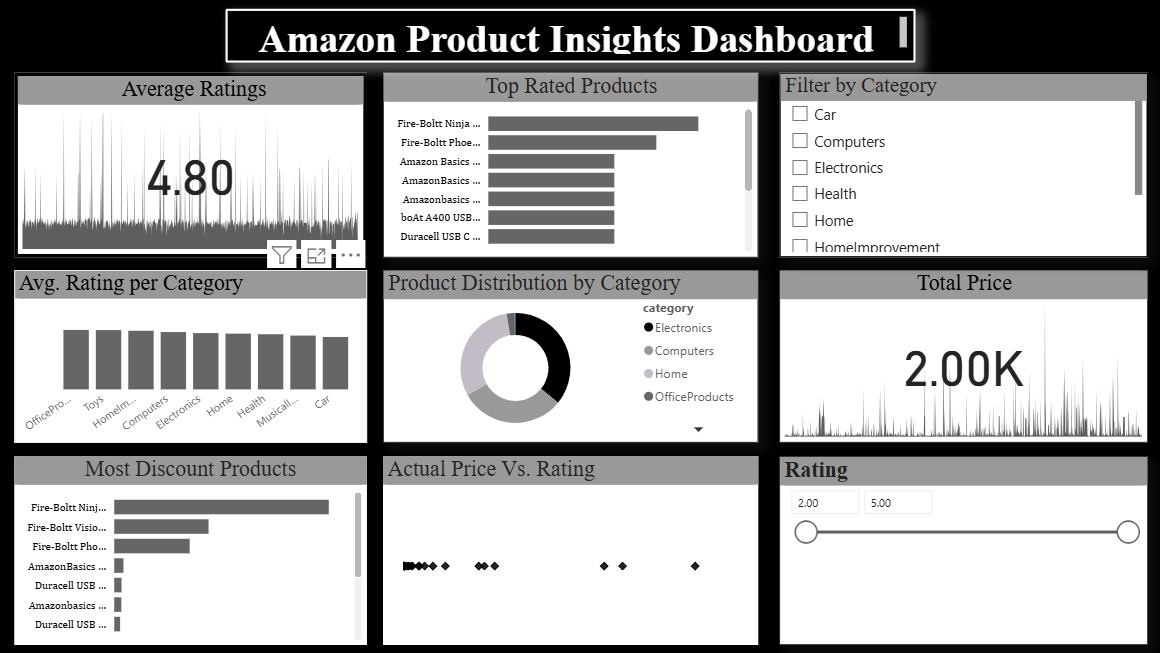

The dashboard page shown, as its layout file describes it:
{"tool":"powerbi","page":{"name":"Page 1","canvas":[1280,720],"ordinal":0},"visuals":[{"type":"kpi","title":"Total Price","fields":{"TrendLine":["Sheet1.product_id"],"Indicator":["Sum(Sheet1.actual_price)"]},"box":[857.6,296.4,404.8,189.4],"z":0},{"type":"clusteredBarChart","title":"Top Rated Products","fields":{"Category":["Sheet1.product_name"],"Y":["CountNonNull(Sheet1.rating)"]},"box":[422.6,79.6,411.7,203.1],"z":1000},{"type":"donutChart","title":"Product Distribution by Category","fields":{"Category":["Sheet1.category"],"Y":["CountNonNull(Sheet1.product_id)"]},"box":[422.6,296.4,411.7,189.4],"z":3000},{"type":"scatterChart","title":"Actual Price Vs. Rating","fields":{"Category":["Sheet1.rating"],"X":["Sum(Sheet1.actual_price)"]},"box":[422.6,500.9,411.7,207.2],"z":4000},{"type":"slicer","title":"Filter by Category","fields":{"Values":["Sheet1.category"]},"box":[857.6,79.6,404.8,203.1],"z":6000},{"type":"slicer","title":"Rating","fields":{"Values":["Sheet1.rating"]},"box":[857.6,500.9,404.8,207.2],"z":7000},{"type":"kpi","title":"Average Ratings","fields":{"Indicator":["Sum(Sheet1.rating)"],"TrendLine":["Sheet1.product_id"]},"box":[17.8,79.6,387,203.1],"z":8000},{"type":"clusteredBarChart","title":"Most Discount Products","fields":{"Category":["Sheet1.product_name"],"Y":["Sum(Sheet1.discount_amount)"]},"box":[17.8,500.9,387,207.2],"z":8001},{"type":"columnChart","title":"Avg. Rating per Category","fields":{"Category":["Sheet1.category"],"Y":["Avg(Sheet1.rating)"]},"box":[17.8,296.4,387,189.4],"z":8002},{"type":"textbox","box":[249.7,9.6,757.5,59],"z":8003}]}

Visuals, with their boxes in screenshot pixels (x1, y1, x2, y2), scaled from the page's 1280x720 canvas onto the 1160x653 screenshot:
"Total Price" kpi: bbox(777, 269, 1144, 441)
"Top Rated Products" clusteredBarChart: bbox(383, 72, 756, 256)
"Product Distribution by Category" donutChart: bbox(383, 269, 756, 441)
"Actual Price Vs. Rating" scatterChart: bbox(383, 454, 756, 642)
"Filter by Category" slicer: bbox(777, 72, 1144, 256)
"Rating" slicer: bbox(777, 454, 1144, 642)
"Average Ratings" kpi: bbox(16, 72, 367, 256)
"Most Discount Products" clusteredBarChart: bbox(16, 454, 367, 642)
"Avg. Rating per Category" columnChart: bbox(16, 269, 367, 441)
textbox: bbox(226, 9, 913, 62)
